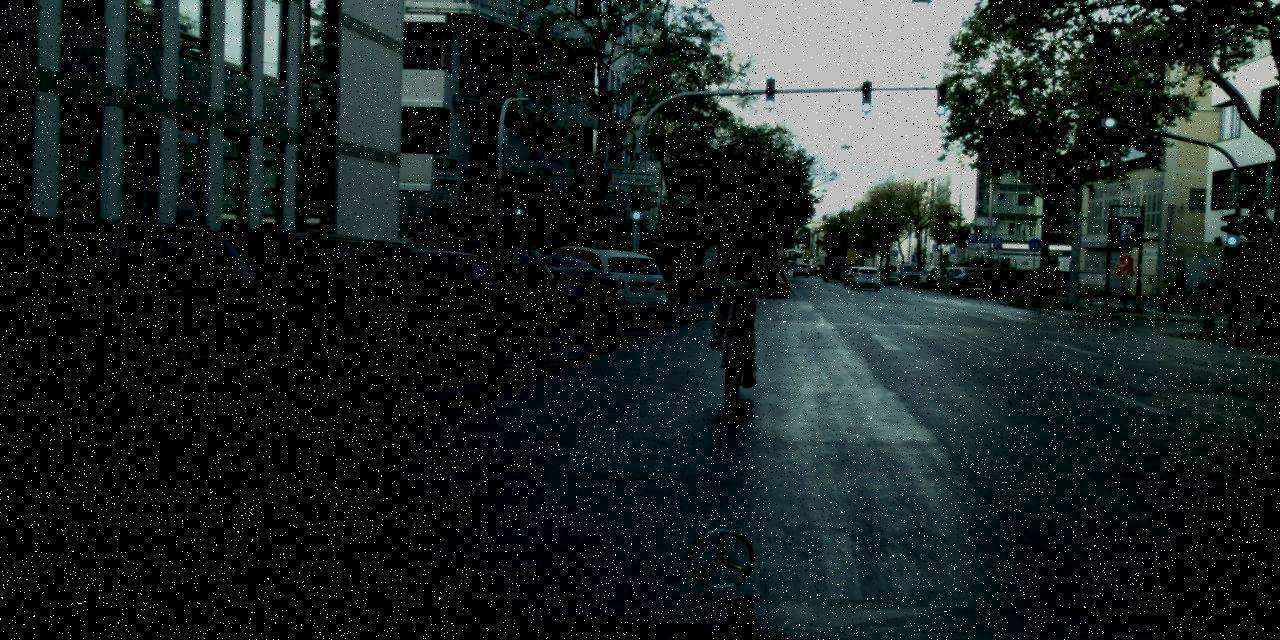ped: (707, 200, 775, 364), (1196, 266, 1223, 333), (881, 263, 889, 282)
